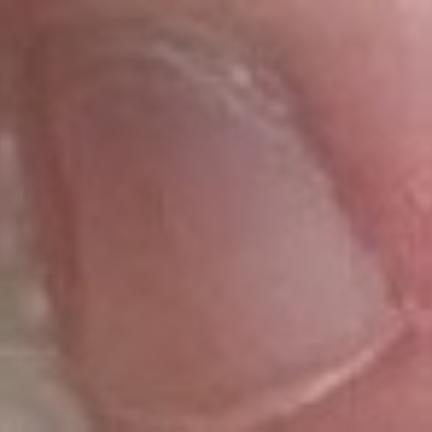Nail: (36, 26, 409, 426)
